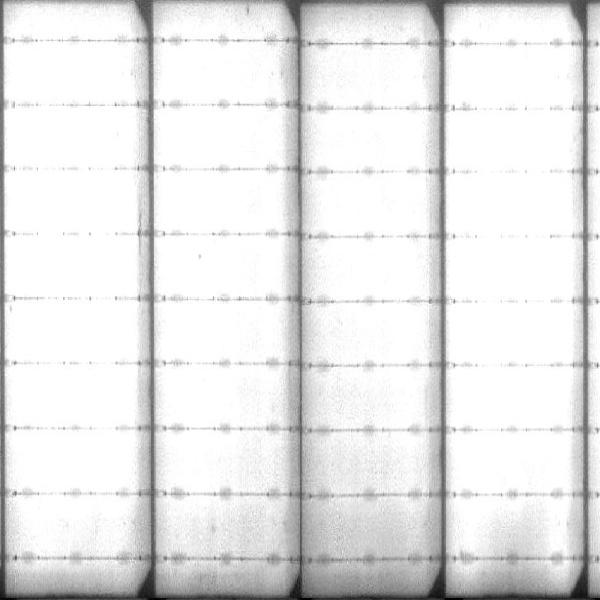hot_spot: (11, 367, 136, 424), (8, 174, 135, 230), (5, 46, 137, 99), (449, 48, 573, 103), (15, 305, 136, 361), (9, 240, 136, 291), (449, 112, 571, 165), (2, 114, 133, 160), (455, 245, 571, 296), (449, 308, 569, 357), (12, 441, 133, 489), (158, 46, 268, 98), (163, 178, 279, 227), (168, 309, 280, 359), (454, 371, 563, 422), (454, 184, 569, 230), (168, 244, 280, 291), (158, 372, 276, 415), (164, 115, 276, 159), (23, 503, 121, 549), (465, 445, 563, 490), (326, 121, 423, 163), (325, 185, 418, 225), (343, 245, 421, 289), (163, 437, 235, 480), (345, 308, 413, 353)
